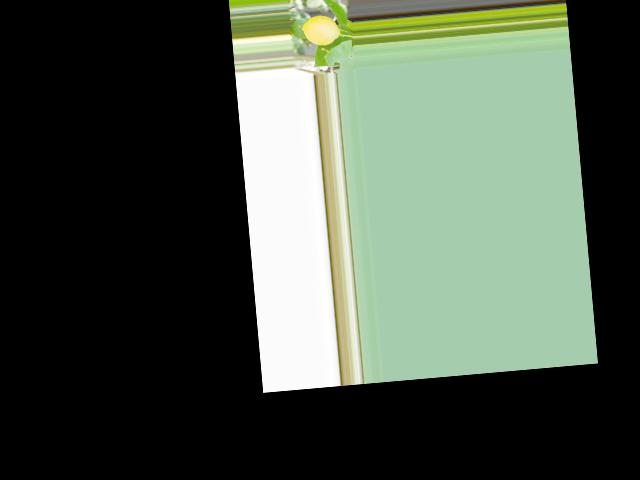lemon: (296, 10, 342, 47)
